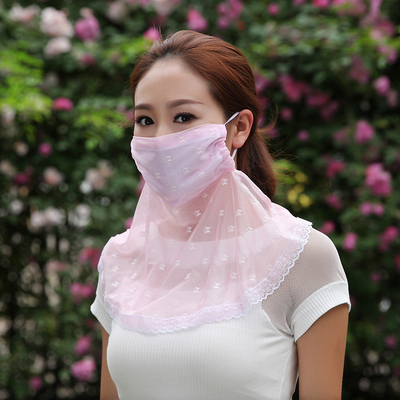face_mask: (130, 60, 227, 197)
